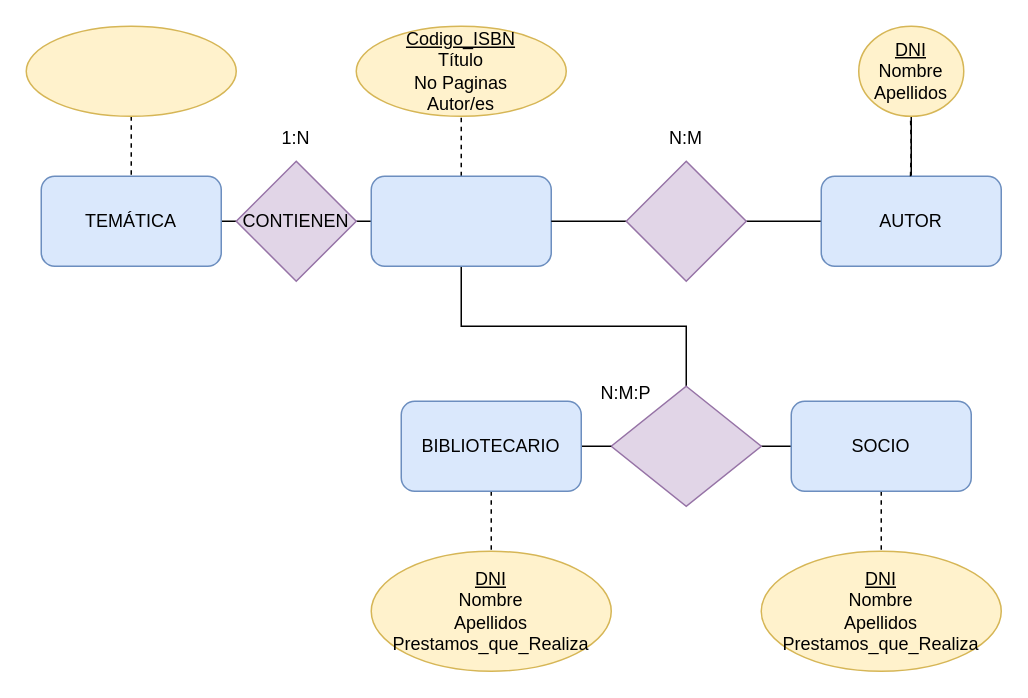
This 1028x698 diagram has some shape labels left out. The shapes that lost their labels are listed below. From the top down, each one's box as (x1, y1, x2, y2) in pixels, then its label:
(25, 25, 236, 116): Nombre_Temática
(370, 175, 551, 266): LIBRO
(625, 160, 746, 281): ESCRIBE
(610, 385, 761, 506): PRESTAN
